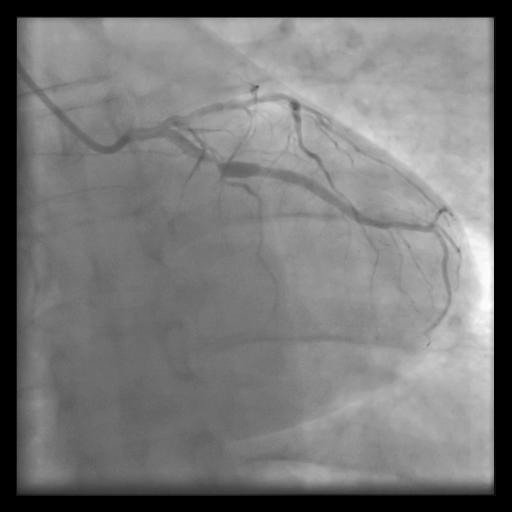Stenosis: (201, 146, 228, 179)
